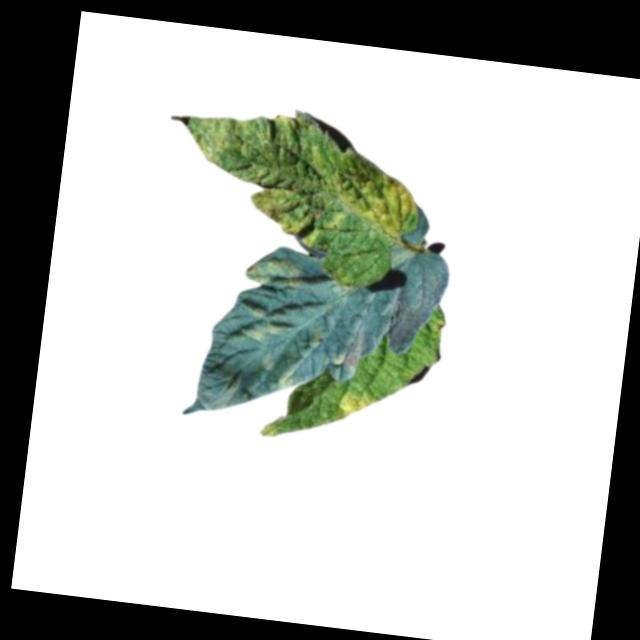Leaf_Mold: (171, 99, 428, 262), (241, 253, 304, 295), (240, 302, 293, 344), (336, 388, 383, 423), (331, 331, 367, 372)
